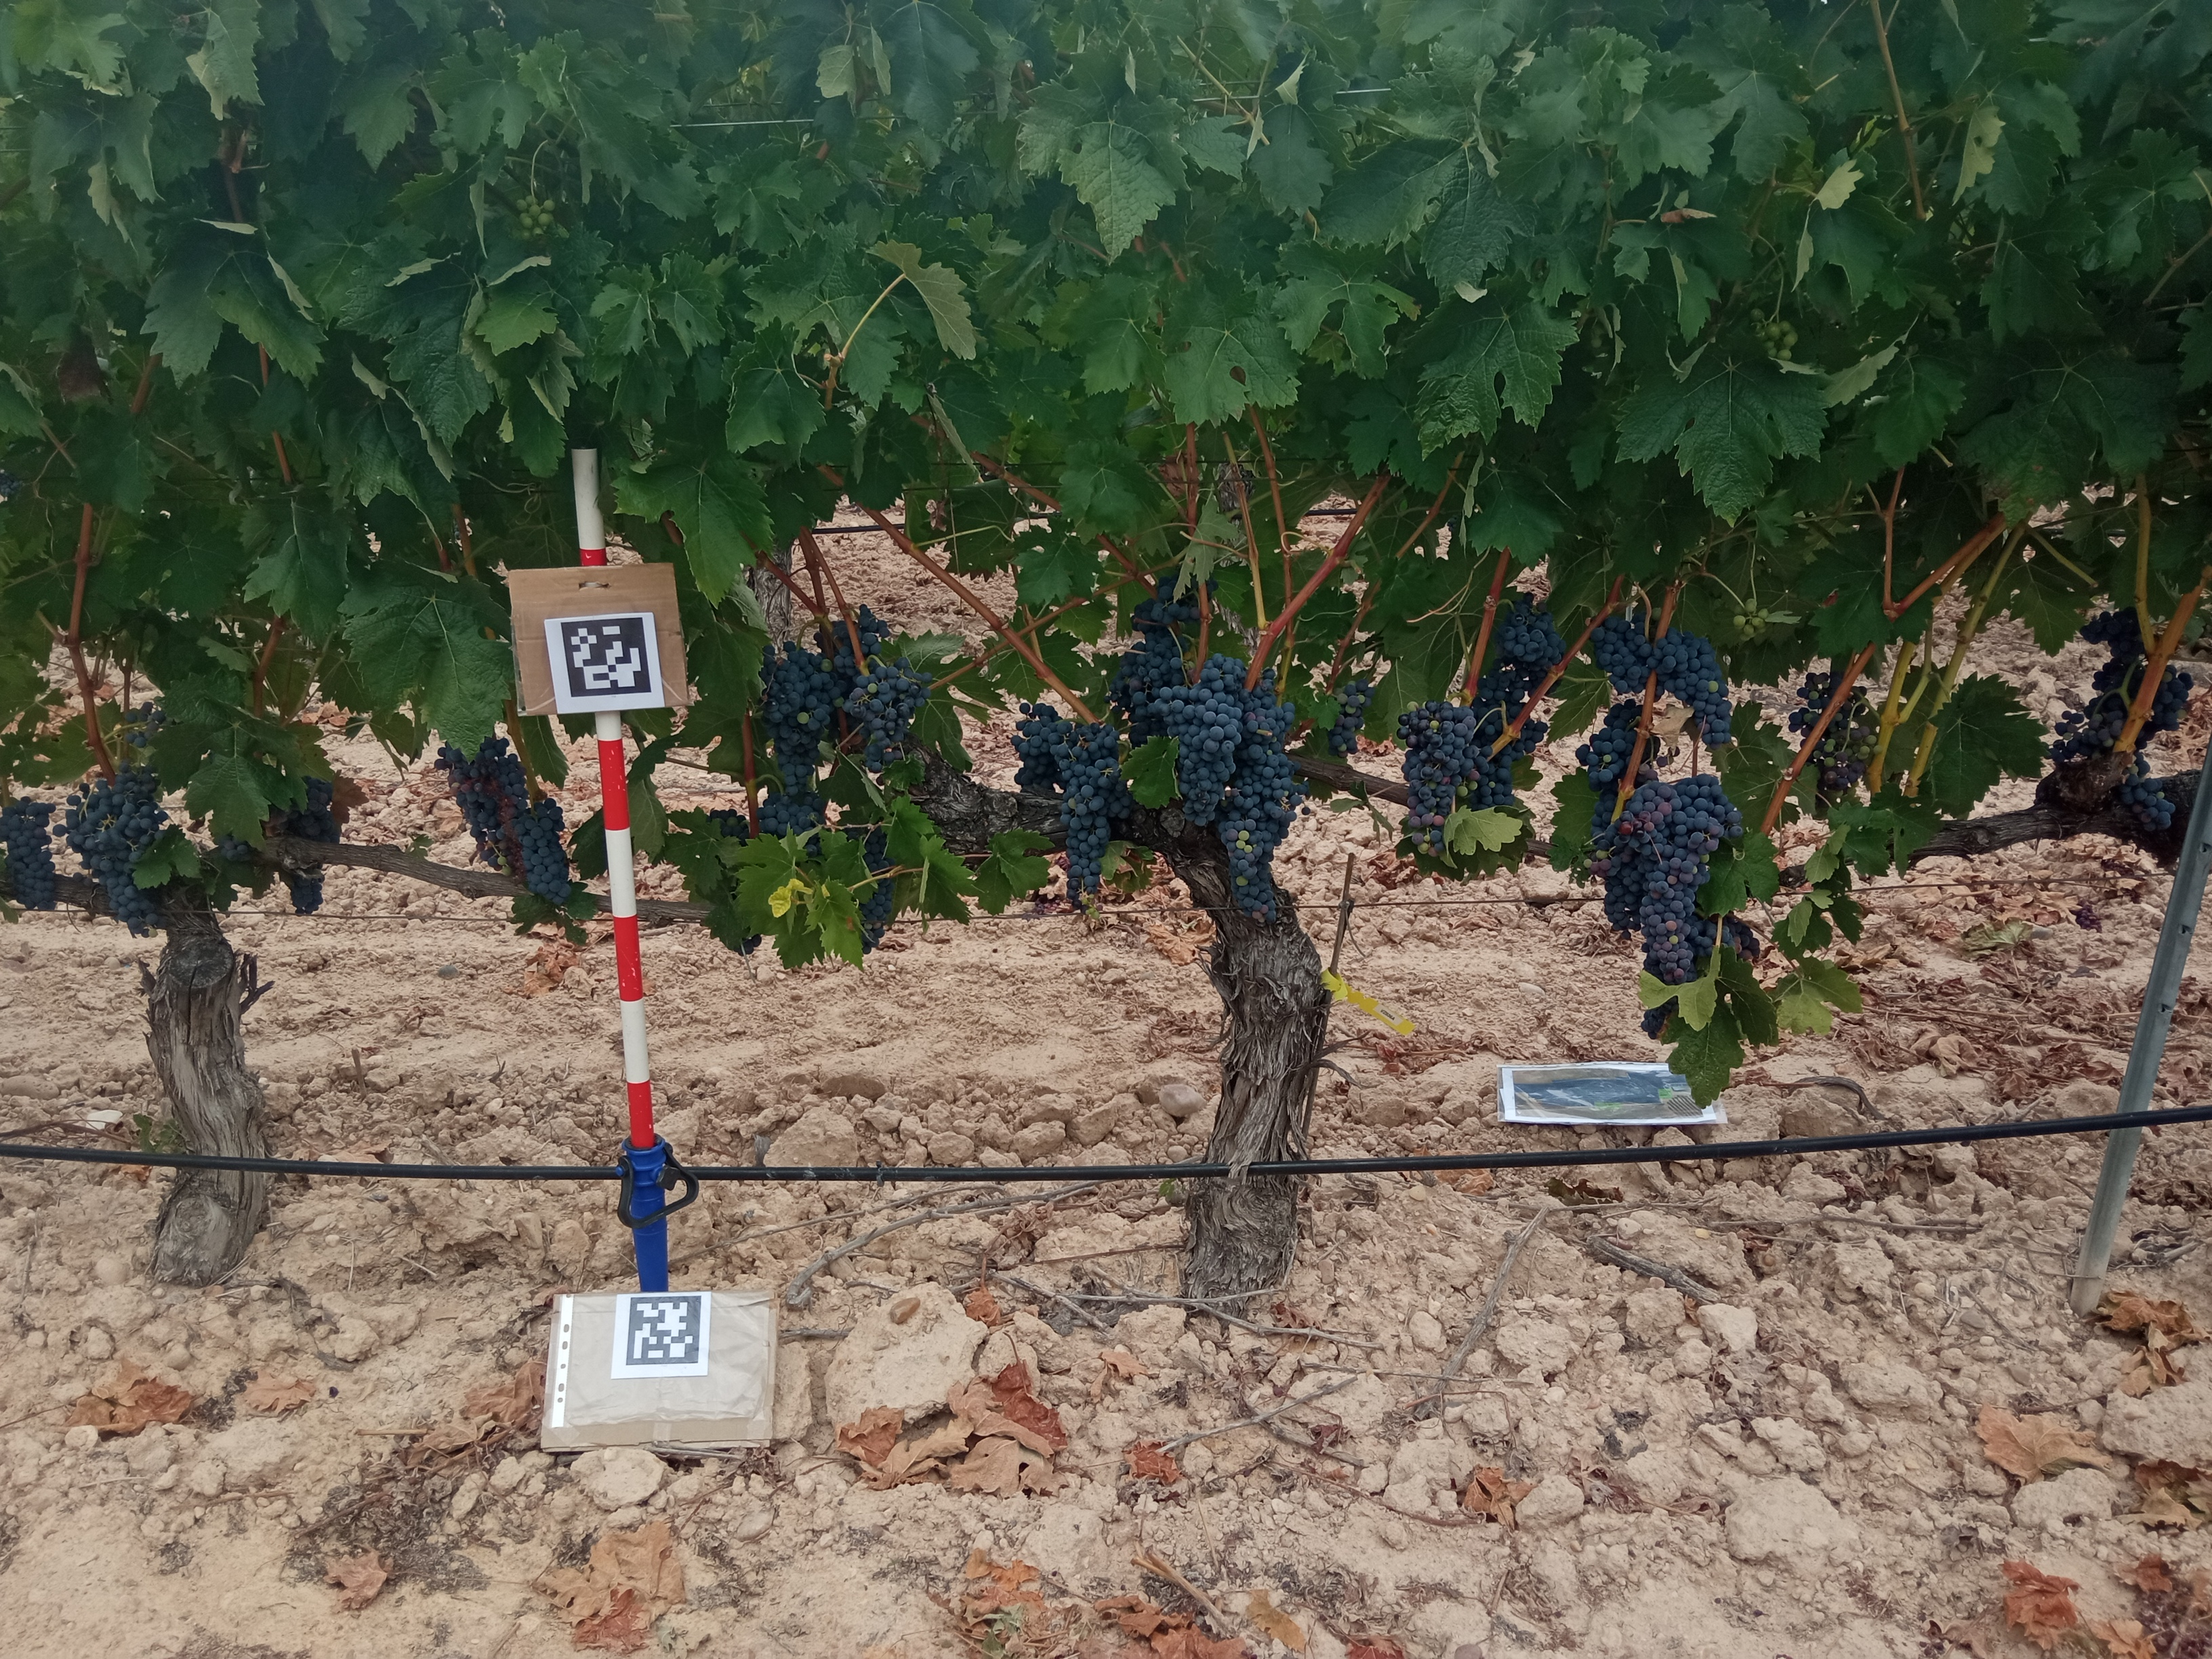grapes: (1604, 772, 1742, 1042), (2040, 605, 2196, 835), (1207, 741, 1312, 927), (52, 777, 158, 943), (1049, 720, 1134, 922), (1393, 695, 1494, 861), (754, 638, 846, 798), (1151, 680, 1245, 831), (432, 735, 529, 877), (1465, 667, 1552, 817), (1573, 697, 1660, 847), (1787, 669, 1885, 798), (1646, 620, 1733, 753), (843, 655, 932, 777), (1103, 631, 1193, 748), (1197, 650, 1292, 749), (840, 816, 899, 957), (1496, 589, 1568, 697), (1583, 814, 1642, 939), (510, 796, 573, 910), (0, 795, 57, 913), (1129, 570, 1221, 641), (810, 601, 894, 680), (1008, 699, 1071, 796), (1587, 610, 1651, 697), (108, 756, 171, 845), (752, 788, 829, 859), (277, 772, 343, 847), (1689, 906, 1763, 964), (1327, 678, 1378, 760), (1747, 305, 1801, 362), (279, 857, 327, 918), (120, 697, 171, 749), (510, 190, 559, 244), (1728, 596, 1771, 647), (707, 805, 754, 850), (216, 831, 256, 863), (82, 636, 118, 662), (1655, 741, 1683, 772), (730, 932, 763, 957), (1588, 319, 1608, 350)
